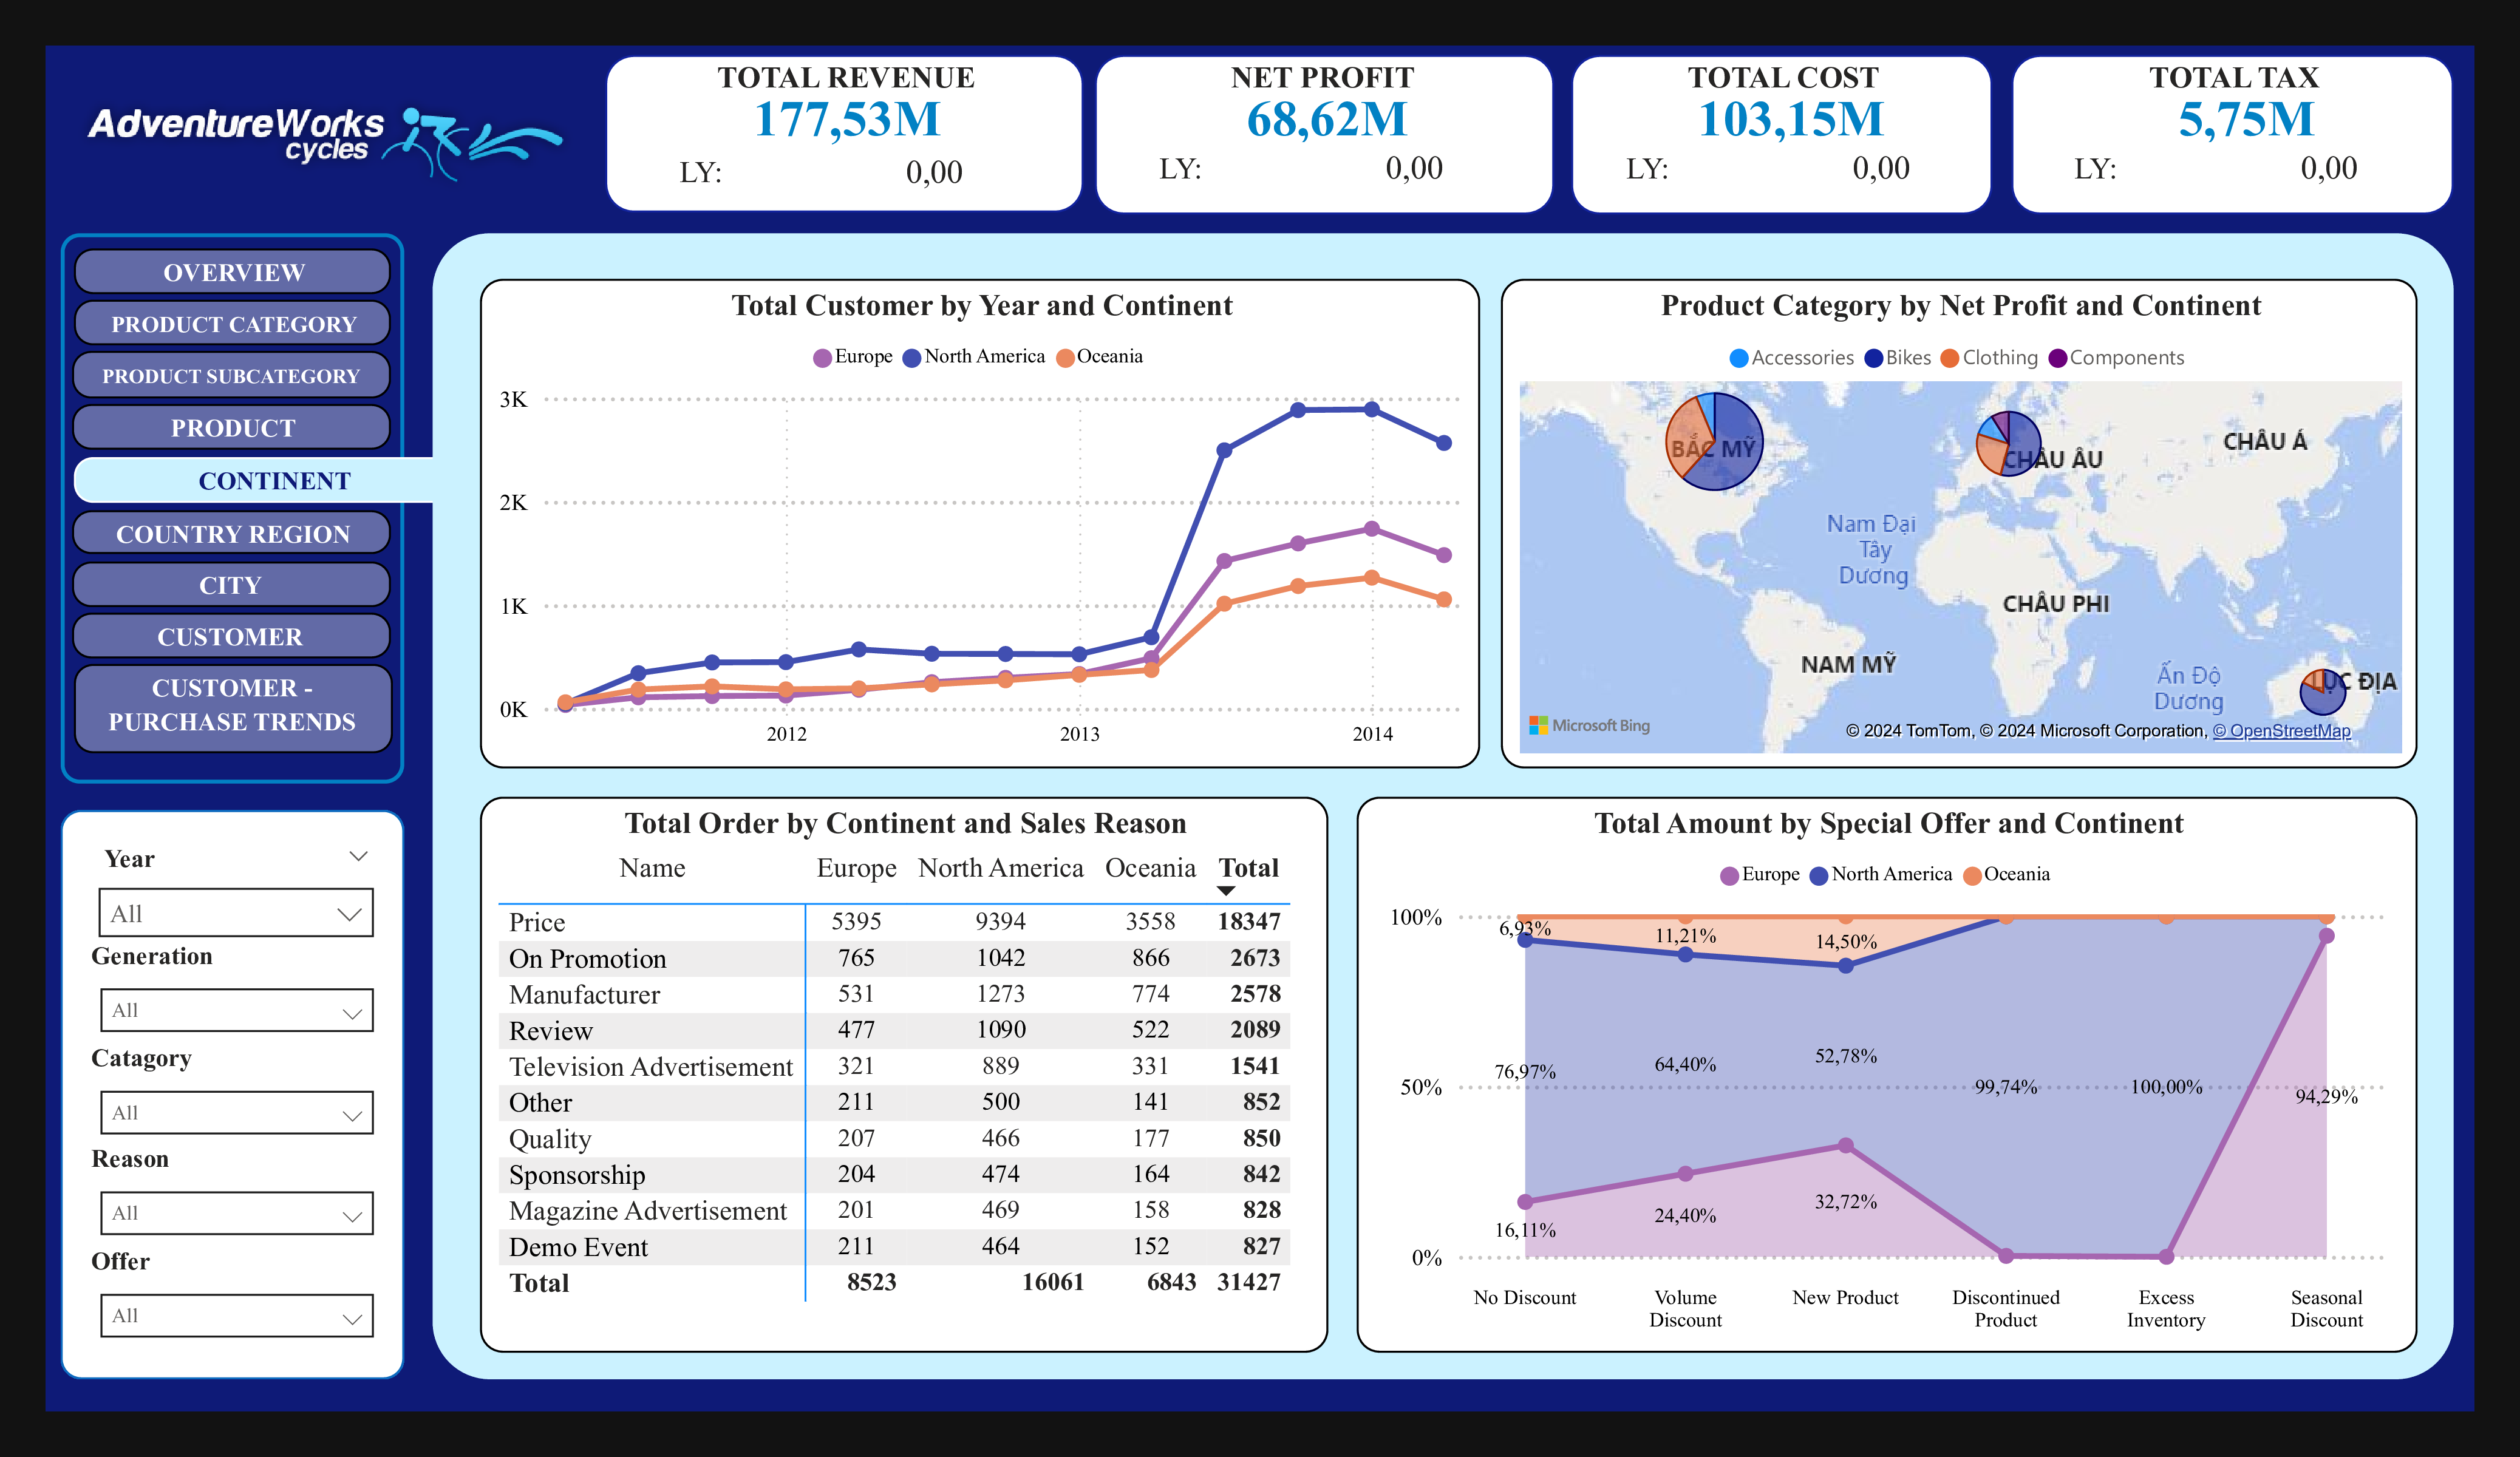

What the dashboard file says about the page in this screenshot:
{"tool":"powerbi","page":{"name":"Continent","canvas":[1280,720],"ordinal":4},"visuals":[{"type":"textbox","box":[295.4,4.6,251.2,83.5],"z":0},{"type":"group","id":"g1","title":"Group 3","box":[828.3,50.9,94.3,29.3],"z":0,"group":"g7"},{"type":"textbox","box":[828.3,50.9,83.6,29.3],"z":0,"group":"g1"},{"type":"group","id":"g2","title":"Group 3","box":[1064.3,50.9,94.3,29.3],"z":0,"group":"g8"},{"type":"textbox","box":[1064.3,50.9,83.6,29.3],"z":0,"group":"g2"},{"type":"group","id":"g3","title":"Group 3","box":[581.9,51,94.3,29.3],"z":0,"group":"g6"},{"type":"textbox","box":[581.9,51,83.6,29.3],"z":0,"group":"g3"},{"type":"group","id":"g4","title":"Group 3","box":[329.1,53.4,94.3,29.3],"z":0,"group":"g5"},{"type":"textbox","box":[329.1,53.4,83.6,29.3],"z":0,"group":"g4"},{"type":"card","fields":{"Values":["Fact_SalesOrderHeader.Total_Revenue"]},"box":[347.7,22.7,147.3,33.5],"z":1000},{"type":"card","fields":{"Values":["Fact_SalesOrderHeader.Prev_Total_Cost"]},"box":[855.1,50.9,67.5,24.3],"z":1000,"group":"g1"},{"type":"card","fields":{"Values":["Fact_SalesOrderHeader.%Change_Cost"]},"box":[922.6,50.9,90.7,29.3],"z":1000,"group":"g7"},{"type":"card","fields":{"Values":["Fact_SalesOrderHeader.Prev_Total_Tax"]},"box":[1091.1,50.9,67.5,24.3],"z":1000,"group":"g2"},{"type":"card","fields":{"Values":["Fact_SalesOrderHeader.%Change_Tax"]},"box":[1158.6,50.9,90.7,29.3],"z":1000,"group":"g8"},{"type":"card","fields":{"Values":["Fact_SalesOrderHeader.Prev_Net_Profit"]},"box":[608.7,51,67.5,24.3],"z":1000,"group":"g3"},{"type":"card","fields":{"Values":["Fact_SalesOrderHeader.%Change_Net_Profit"]},"box":[676.2,51,90.7,29.3],"z":1000,"group":"g6"},{"type":"card","fields":{"Values":["Fact_SalesOrderHeader.Prev_Total_Revenue"]},"box":[355.9,53.4,67.5,24.3],"z":1000,"group":"g4"},{"type":"card","fields":{"Values":["Fact_SalesOrderHeader.%Change_Revenue"]},"box":[423.4,53.4,90.7,29.3],"z":1000,"group":"g5"},{"type":"textbox","box":[553.3,4.8,241.9,83.8],"z":2000},{"type":"textbox","box":[803.8,5,222.5,83.8],"z":3000},{"type":"textbox","box":[1036.2,5,232.5,83.8],"z":4000},{"type":"card","fields":{"Values":["Fact_SalesOrderHeader.Net_Profit"]},"box":[587.1,22.9,174.8,33.3],"z":5000},{"type":"card","fields":{"Values":["Fact_SalesOrderHeader.Total_Cost"]},"box":[839.1,23,160,32.6],"z":6000},{"type":"card","fields":{"Values":["Fact_SalesOrderHeader.Total_Tax"]},"box":[1091.7,23,133.9,32.6],"z":7000},{"type":"group","id":"g5","title":"Group 4","box":[329.1,53.4,184.4,29.1],"z":8000},{"type":"group","id":"g6","title":"Group 4","box":[581.9,51,184.8,29],"z":9000},{"type":"group","id":"g7","title":"Group 4","box":[828.3,50.9,185.2,29.1],"z":10000},{"type":"group","id":"g8","title":"Group 4","box":[1064.3,50.9,184.8,29.1],"z":11000},{"type":"slicer","fields":{"Values":["Datetime.OrderDate.Variation.Date Hierarchy.Year"]},"box":[18.2,416.2,165.2,56.5],"z":11000,"group":"g9"},{"type":"shape","box":[7.5,99,181.5,290],"z":12000},{"type":"slicer","title":"Catagory ","fields":{"Values":["ProductCategory.Name"]},"box":[19,526.6,164.4,52.7],"z":12000,"group":"g9"},{"type":"image","box":[0,22,295,61],"z":13000},{"type":"slicer","title":"Reason ","fields":{"Values":["SalesReason.Name"]},"box":[19,579.3,164.4,54],"z":13000,"group":"g9"},{"type":"textbox","box":[14.7,107.1,167.1,23.5],"z":14000},{"type":"slicer","title":"Offer ","fields":{"Values":["SpecialOffer.Type"]},"box":[19,633.3,164.4,55.2],"z":14000,"group":"g9"},{"type":"textbox","box":[14.8,134.1,167,24.1],"z":15000},{"type":"slicer","title":"Generation","fields":{"Values":["Sales Customer.Generation"]},"box":[19,472.7,164.4,55.2],"z":15000,"group":"g9"},{"type":"textbox","box":[14.4,161.5,167.4,24.1],"z":16000},{"type":"textbox","box":[14.4,188.9,167.4,24.4],"z":17000},{"type":"textbox","box":[15,217,213,24],"z":18000},{"type":"textbox","box":[14.2,244.7,167.4,23.7],"z":19000},{"type":"textbox","box":[14.2,272.1,167.4,23.7],"z":20000},{"type":"textbox","box":[14.2,299.5,167.4,23.7],"z":21000},{"type":"shape","box":[8.2,402.5,181.2,300],"z":22000},{"type":"group","id":"g9","title":"Group 1","box":[18.2,416.2,165,272.5],"z":23000},{"type":"shape","box":[203.8,98.8,1065,603.8],"z":24000},{"type":"map","title":"Product Category by Net Profit and Continent ","fields":{"Size":["Fact_SalesOrderHeader.Net_Profit"],"Category":["Continent.Continent"],"Series":["ProductCategory.Name"]},"box":[767.1,122.9,482.9,258.6],"z":25000},{"type":"pivotTable","title":"Total Order by Continent and Sales Reason ","fields":{"Columns":["Continent.Continent"],"Values":["Fact_SalesOrderHeader.Total_Order"],"Rows":["SalesReason.Name"]},"box":[228.6,395.7,447.1,292.9],"z":26000},{"type":"lineChart","title":"Total Revenue  by Year and Continent","fields":{"Series":["Continent.Continent"],"Category":["Datetime.OrderDate.Variation.Date Hierarchy.Year","Datetime.OrderDate.Variation.Date Hierarchy.Quarter"],"Y":["Fact_SalesOrderHeader.Total_Revenue"]},"box":[228.6,122.9,527.1,258.6],"z":27000},{"type":"stackedAreaChart","title":"Total Amount by Special Offer and Continent ","fields":{"Y":["Sum(Fact_SalesOrderHeader.Total_Amount_4_Order)"],"Category":["SpecialOffer.Type"],"Series":["Continent.Continent"]},"box":[691.4,395.7,558.6,292.9],"z":28000},{"type":"textbox","box":[15,326.1,167.8,47.2],"z":29000}]}

Visuals, with their boxes on the page's 1280x720 design canvas (x1, y1, x2, y2). These are canvas units, not pixel positions in the 2520x1457 screenshot, which may show the page scaled, cropped or inside an application window:
textbox: select_region(295, 5, 547, 88)
"Group 3" group: select_region(828, 51, 923, 80)
textbox: select_region(828, 51, 912, 80)
"Group 3" group: select_region(1064, 51, 1159, 80)
textbox: select_region(1064, 51, 1148, 80)
"Group 3" group: select_region(582, 51, 676, 80)
textbox: select_region(582, 51, 666, 80)
"Group 3" group: select_region(329, 53, 423, 83)
textbox: select_region(329, 53, 413, 83)
card - Fact_SalesOrderHeader.Total_Revenue: select_region(348, 23, 495, 56)
card - Fact_SalesOrderHeader.Prev_Total_Cost: select_region(855, 51, 923, 75)
card - Fact_SalesOrderHeader.%Change_Cost: select_region(923, 51, 1013, 80)
card - Fact_SalesOrderHeader.Prev_Total_Tax: select_region(1091, 51, 1159, 75)
card - Fact_SalesOrderHeader.%Change_Tax: select_region(1159, 51, 1249, 80)
card - Fact_SalesOrderHeader.Prev_Net_Profit: select_region(609, 51, 676, 75)
card - Fact_SalesOrderHeader.%Change_Net_Profit: select_region(676, 51, 767, 80)
card - Fact_SalesOrderHeader.Prev_Total_Revenue: select_region(356, 53, 423, 78)
card - Fact_SalesOrderHeader.%Change_Revenue: select_region(423, 53, 514, 83)
textbox: select_region(553, 5, 795, 89)
textbox: select_region(804, 5, 1026, 89)
textbox: select_region(1036, 5, 1269, 89)
card - Fact_SalesOrderHeader.Net_Profit: select_region(587, 23, 762, 56)
card - Fact_SalesOrderHeader.Total_Cost: select_region(839, 23, 999, 56)
card - Fact_SalesOrderHeader.Total_Tax: select_region(1092, 23, 1226, 56)
"Group 4" group: select_region(329, 53, 514, 82)
"Group 4" group: select_region(582, 51, 767, 80)
"Group 4" group: select_region(828, 51, 1014, 80)
"Group 4" group: select_region(1064, 51, 1249, 80)
slicer - Datetime.OrderDate.Variation.Date Hierarchy.Year: select_region(18, 416, 183, 473)
shape: select_region(8, 99, 189, 389)
"Catagory " slicer: select_region(19, 527, 183, 579)
image: select_region(0, 22, 295, 83)
"Reason " slicer: select_region(19, 579, 183, 633)
textbox: select_region(15, 107, 182, 131)
"Offer " slicer: select_region(19, 633, 183, 688)
textbox: select_region(15, 134, 182, 158)
"Generation" slicer: select_region(19, 473, 183, 528)
textbox: select_region(14, 162, 182, 186)
textbox: select_region(14, 189, 182, 213)
textbox: select_region(15, 217, 228, 241)
textbox: select_region(14, 245, 182, 268)
textbox: select_region(14, 272, 182, 296)
textbox: select_region(14, 300, 182, 323)
shape: select_region(8, 402, 189, 702)
"Group 1" group: select_region(18, 416, 183, 689)
shape: select_region(204, 99, 1269, 703)
"Product Category by Net Profit and Continent " map: select_region(767, 123, 1250, 382)
"Total Order by Continent and Sales Reason " pivotTable: select_region(229, 396, 676, 689)
"Total Revenue  by Year and Continent" lineChart: select_region(229, 123, 756, 382)
"Total Amount by Special Offer and Continent " stackedAreaChart: select_region(691, 396, 1250, 689)
textbox: select_region(15, 326, 183, 373)
